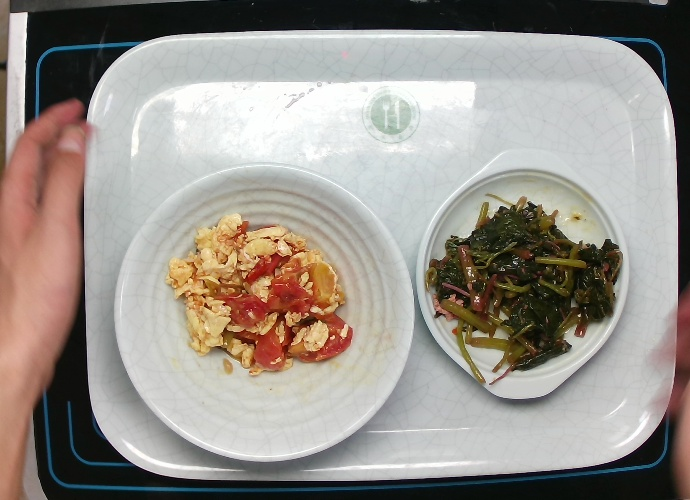JYsf-Shuang_Er_Pan: (410, 141, 630, 403)
JYsf-Xiao_Tang_Wan: (110, 161, 416, 465)
